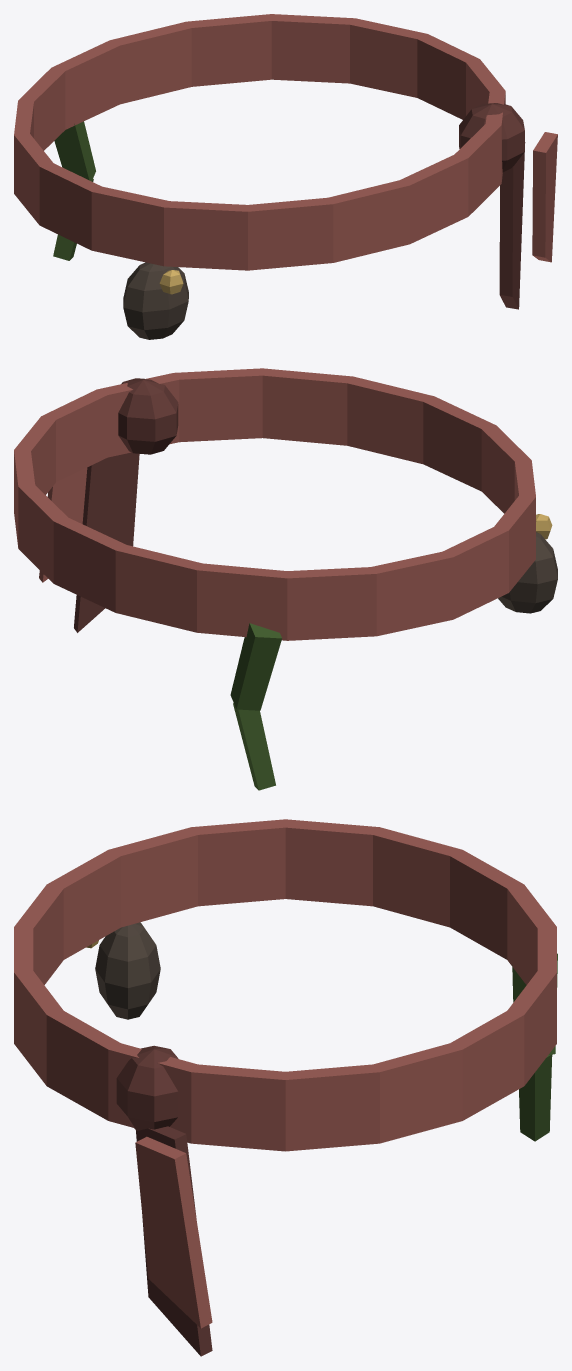
The model's file is smuggler_sash.glb.
3 views of the same model, one above another, from view 1: azimuth 30°, elevation 25°; view 2: azimuth 150°, elevation 25°; view 3: azimuth 270°, elevation 25° (orthographic). The views are drawn at different scales.
Parts seen in each view (by area): view 1: smuggler_sash; view 2: smuggler_sash; view 3: smuggler_sash.
Part boxes in pixels (x1=…): smuggler_sash: x1=14, y1=14, x2=557, y2=339; smuggler_sash: x1=14, y1=368, x2=557, y2=790; smuggler_sash: x1=14, y1=819, x2=557, y2=1356.
Size of the model in its own units: 1.02 by 0.4707 by 0.8286.
